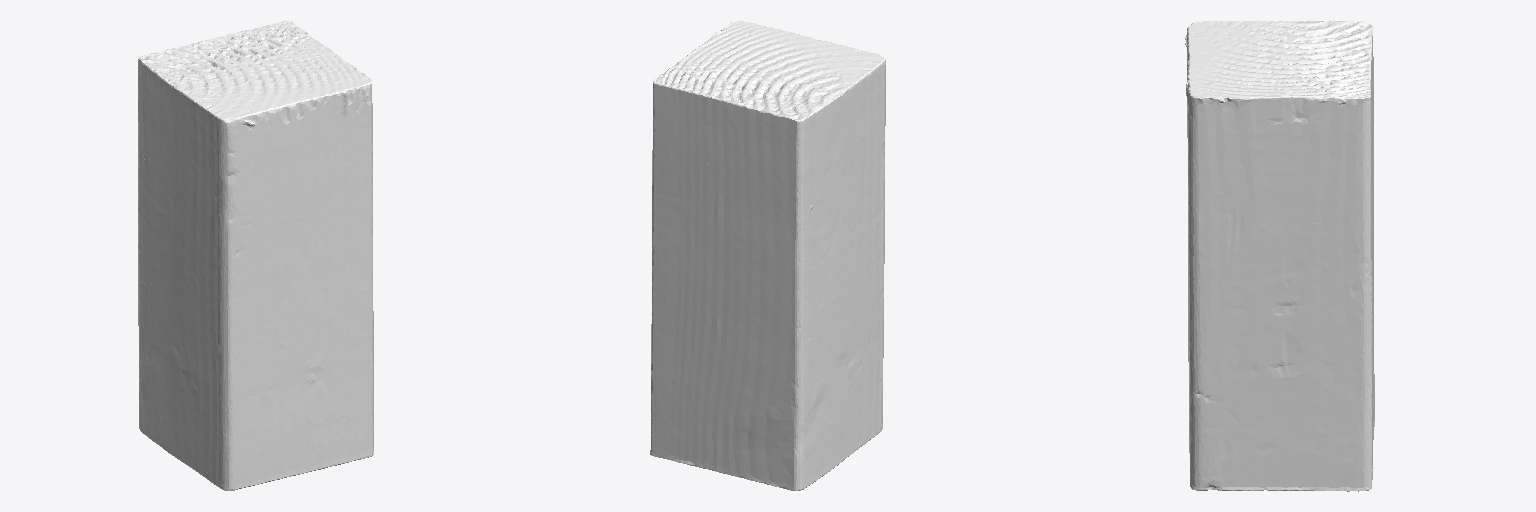
robot.urdf — c_toy_airplane:
<robot name="c_toy_airplane">
	<link name="base_link">
		<visual>
			<origin xyz="0.033398753233434206 -0.003384443109879014 -0.02614525198224048" rpy="0.0 0.0 0.0" />
			<geometry>
				<mesh filename="072-c_toy_airplane/google_16k/textured.obj" scale="1 1 1" />
			</geometry>
			<material name="texture">
				<color rgba="1.0 1.0 1.0 1.0" />
			</material>
		</visual>
		<collision>
			<origin xyz="0.033398753233434206 -0.003384443109879014 -0.02614525198224048" rpy="0.0 0.0 0.0" />
			<geometry>
				<mesh filename="072-c_toy_airplane/google_16k/textured_vhacd.obj" scale="1 1 1" />
			</geometry>
		</collision>
		<inertial>
			<mass value="0.114" />
			<inertia ixx="1e-3" ixy="0.0" ixz="0.0" iyy="1e-3" iyz="0.0" izz="1e-3" />
		</inertial>
	</link>
</robot>

--- Render facts (derived) ---
3 views of the same robot in one strip: view 1: azimuth 30°, elevation 25°; view 2: azimuth 150°, elevation 25°; view 3: azimuth 270°, elevation 25° (orthographic).
Model c_toy_airplane with 1 links and 0 joints (none), rooted at base_link, posed all joints at 0.
Visible links, largest first — view 1: base_link; view 2: base_link; view 3: base_link.
Link boxes in pixels (<box>): base_link: <box>138,21,373,490</box>; base_link: <box>650,21,885,490</box>; base_link: <box>1185,20,1374,491</box>.
Size in the robot's own frame: 0.0906 by 0.0899 by 0.206 metres.
Meshes: 1 distinct files referenced, 1 mesh visuals loaded (1 OBJ).